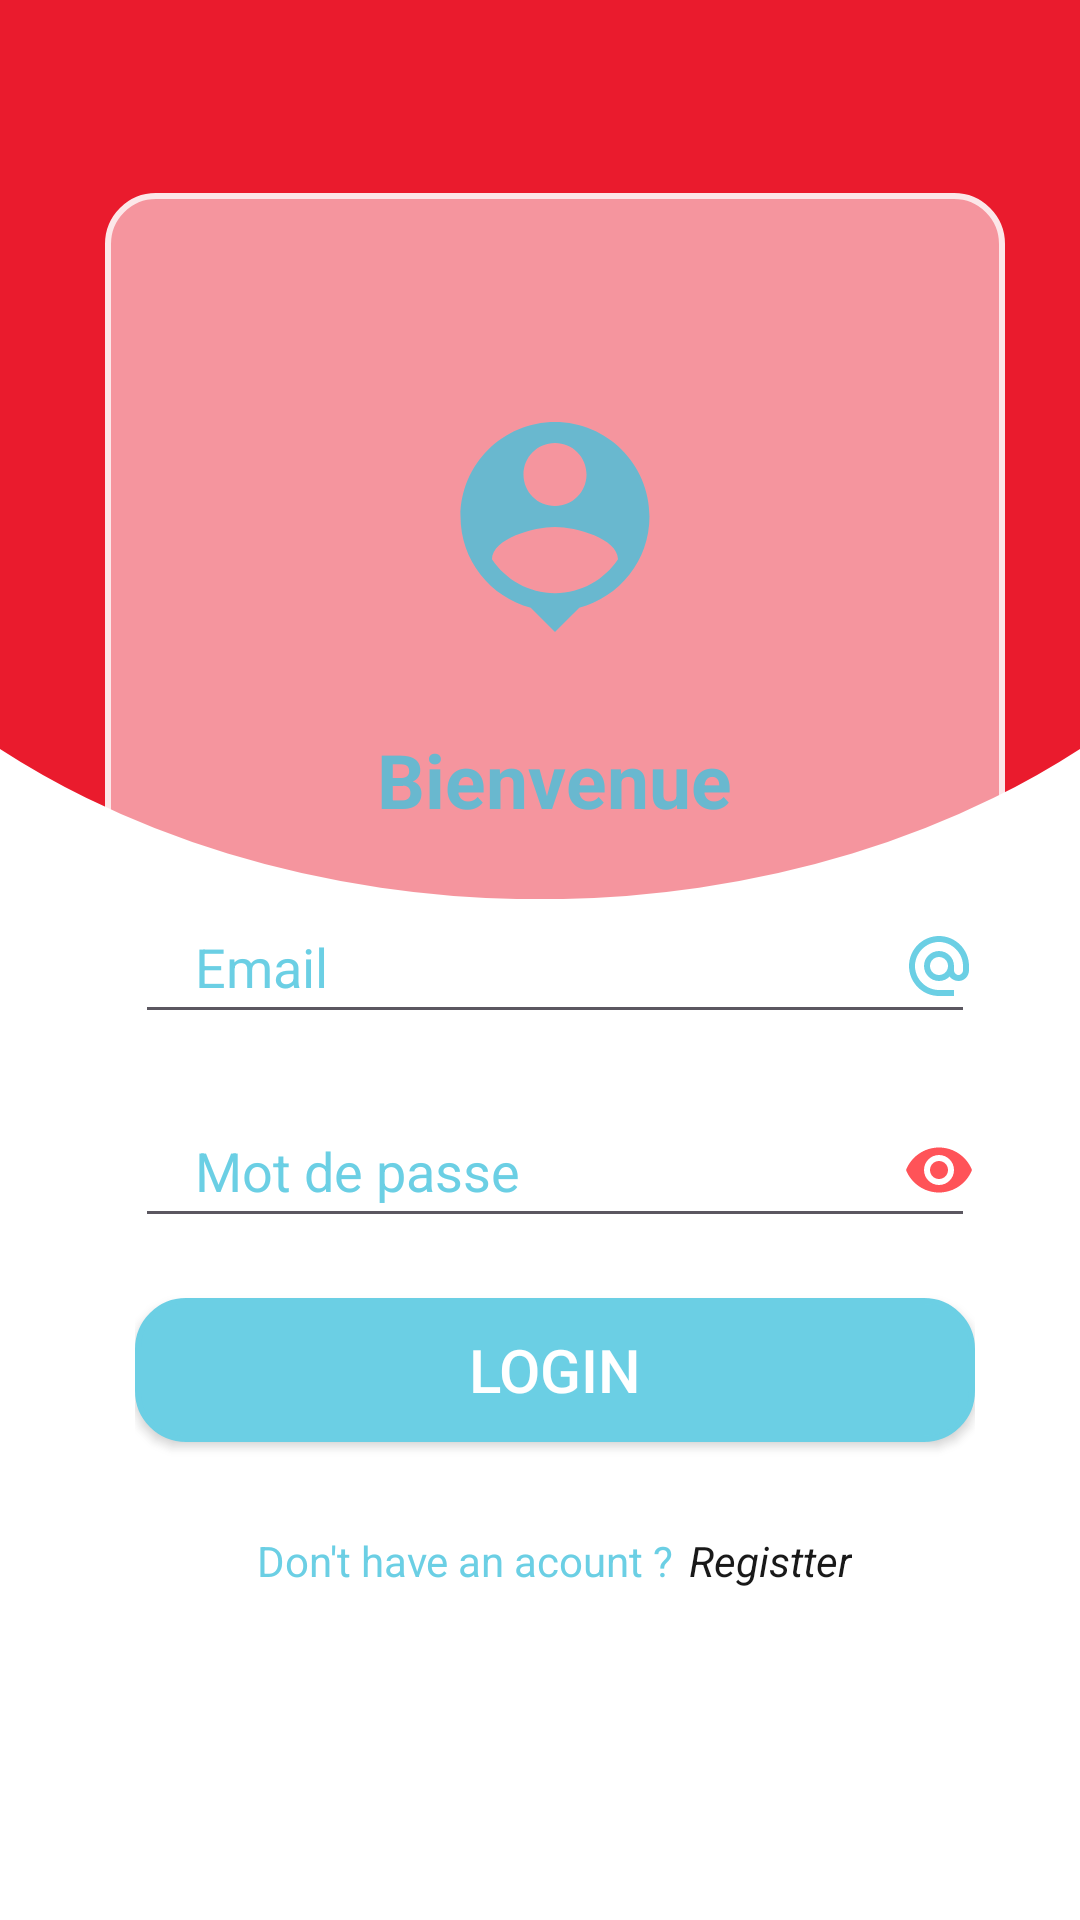

Screen size 1080px x 1920px. Icon name, then its box in pixels as (x1,y1,x2,y2):
login av: (460,422,650,632)
